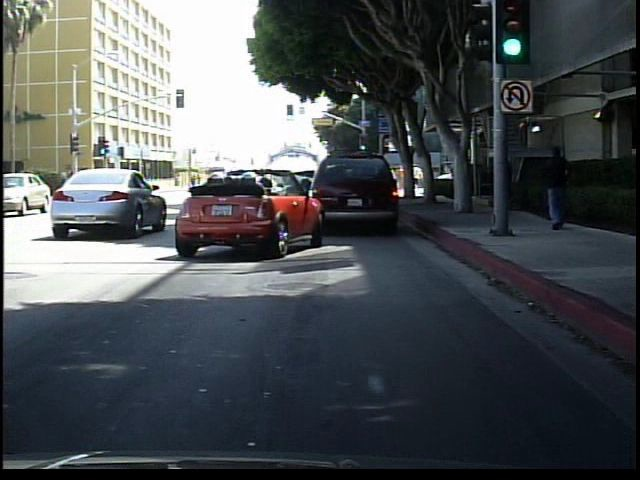person: (540, 138, 575, 233), (486, 145, 514, 216)
